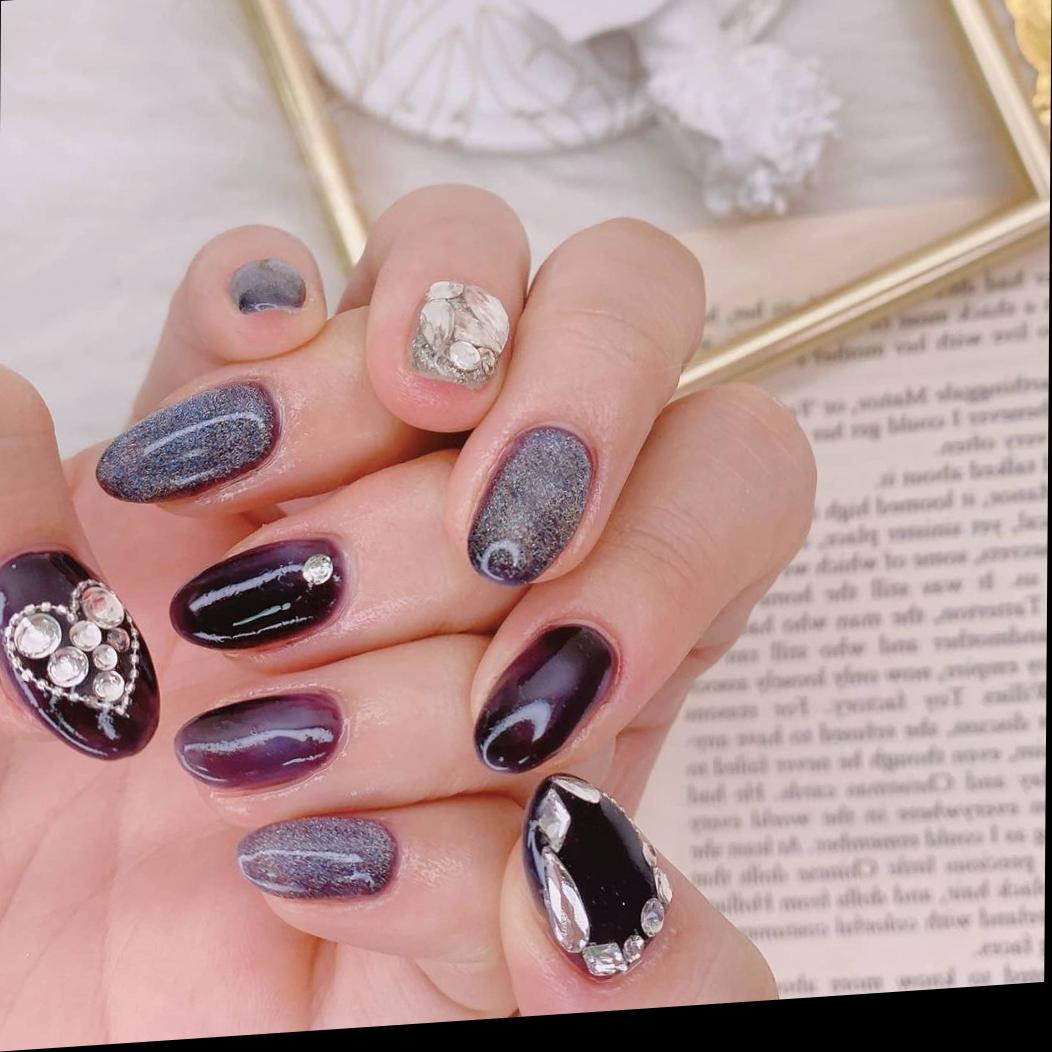nail: (443, 208, 708, 590), (363, 173, 532, 438), (0, 537, 162, 767), (521, 763, 674, 984), (95, 374, 282, 505), (471, 614, 622, 775), (168, 529, 352, 656), (465, 417, 597, 588), (173, 681, 350, 799), (235, 807, 400, 909), (230, 252, 308, 316)
